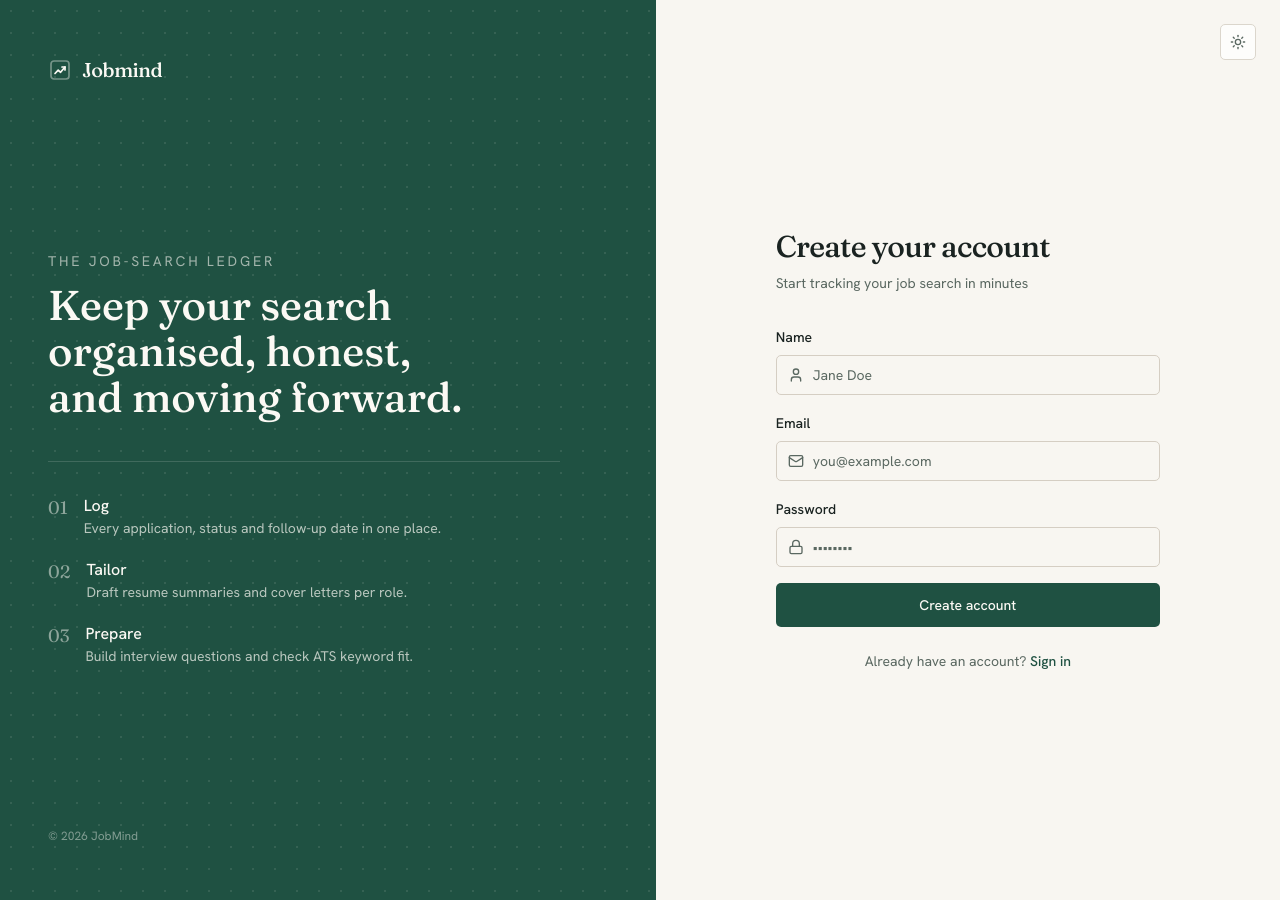
Scenario: Register Component › should show validation error for weak password
The image size is (1280, 900).
Type "Test User" into the field labelled "Name" at [968, 375], box x1=776 y1=355 x2=1160 y2=395
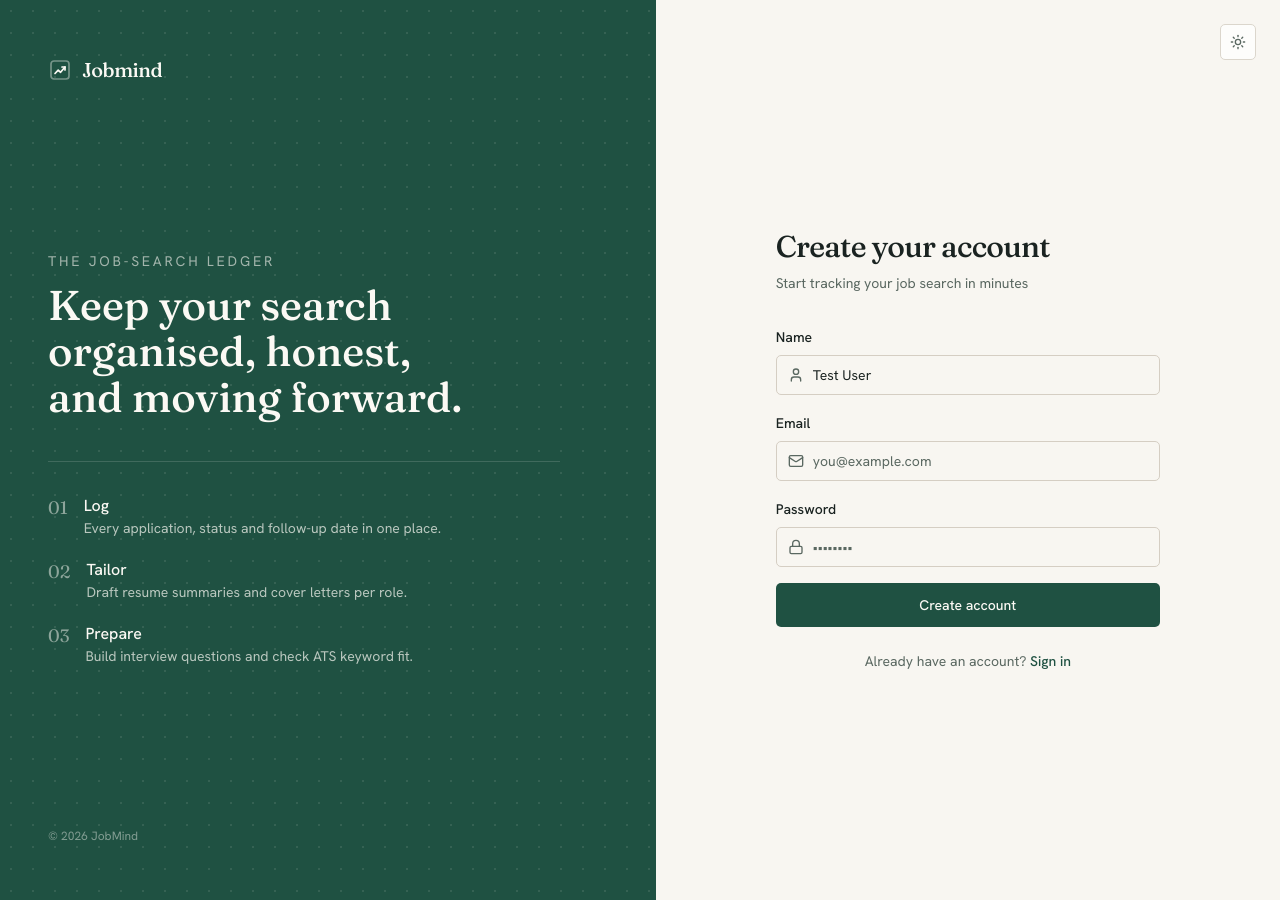
Type "test@test.com" into the field labelled "Email" at [968, 461], box x1=776 y1=441 x2=1160 y2=481
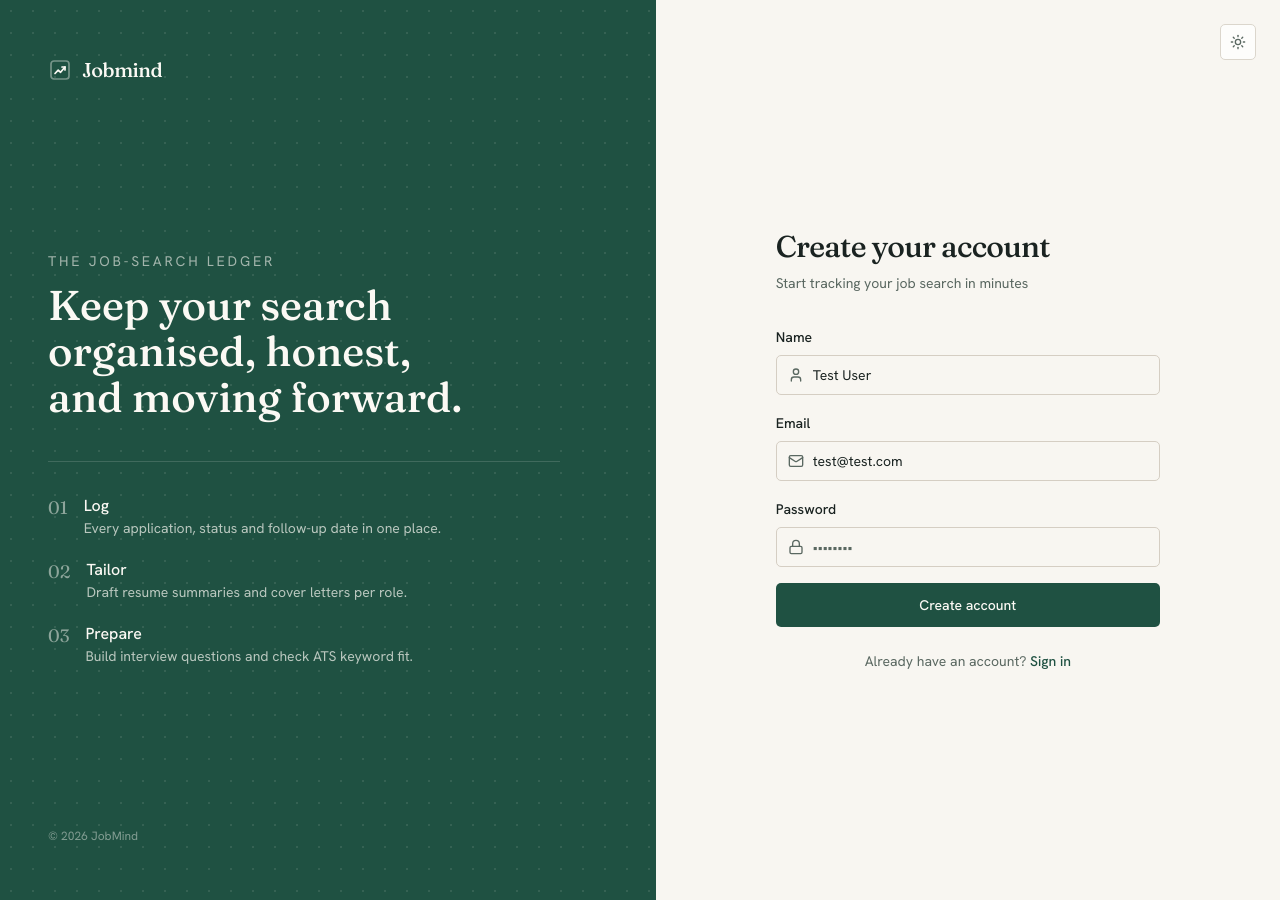
Type "weak" into the password field labelled "Password" at [968, 547], box x1=776 y1=527 x2=1160 y2=567
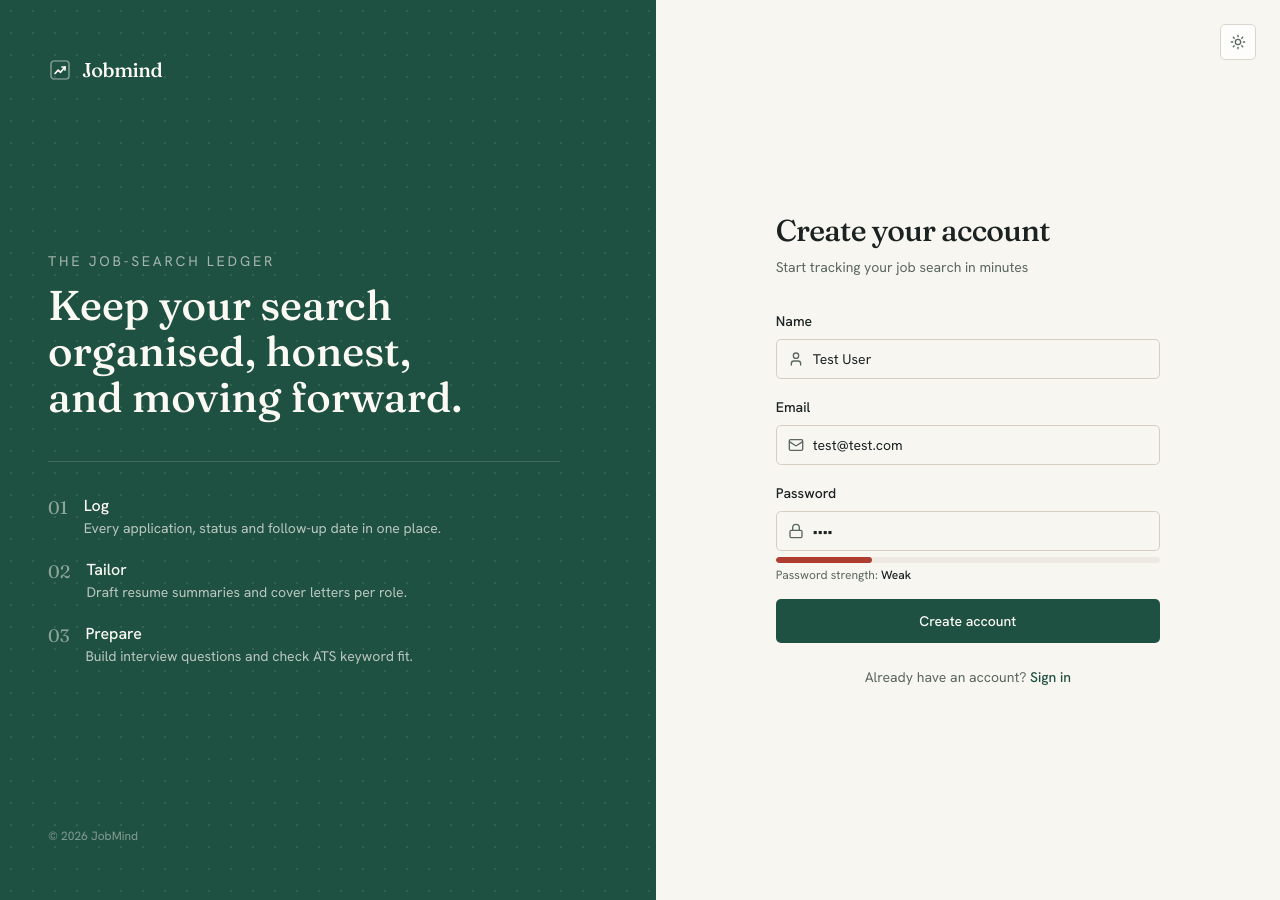
Submit the form from the button "Create account", box x1=776 y1=599 x2=1160 y2=643
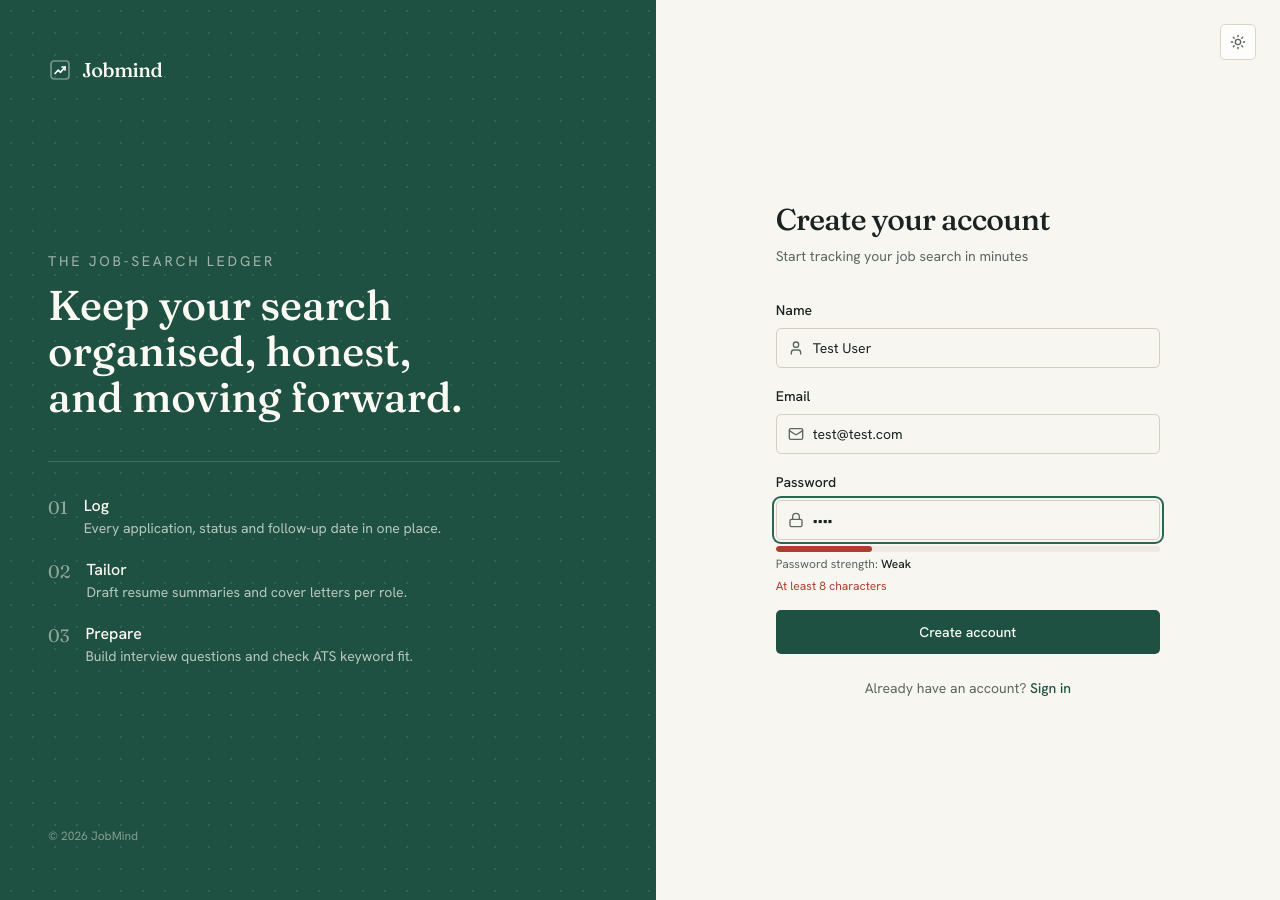
Check: the text "At least 8 characters" is shown, box x1=776 y1=578 x2=887 y2=594
